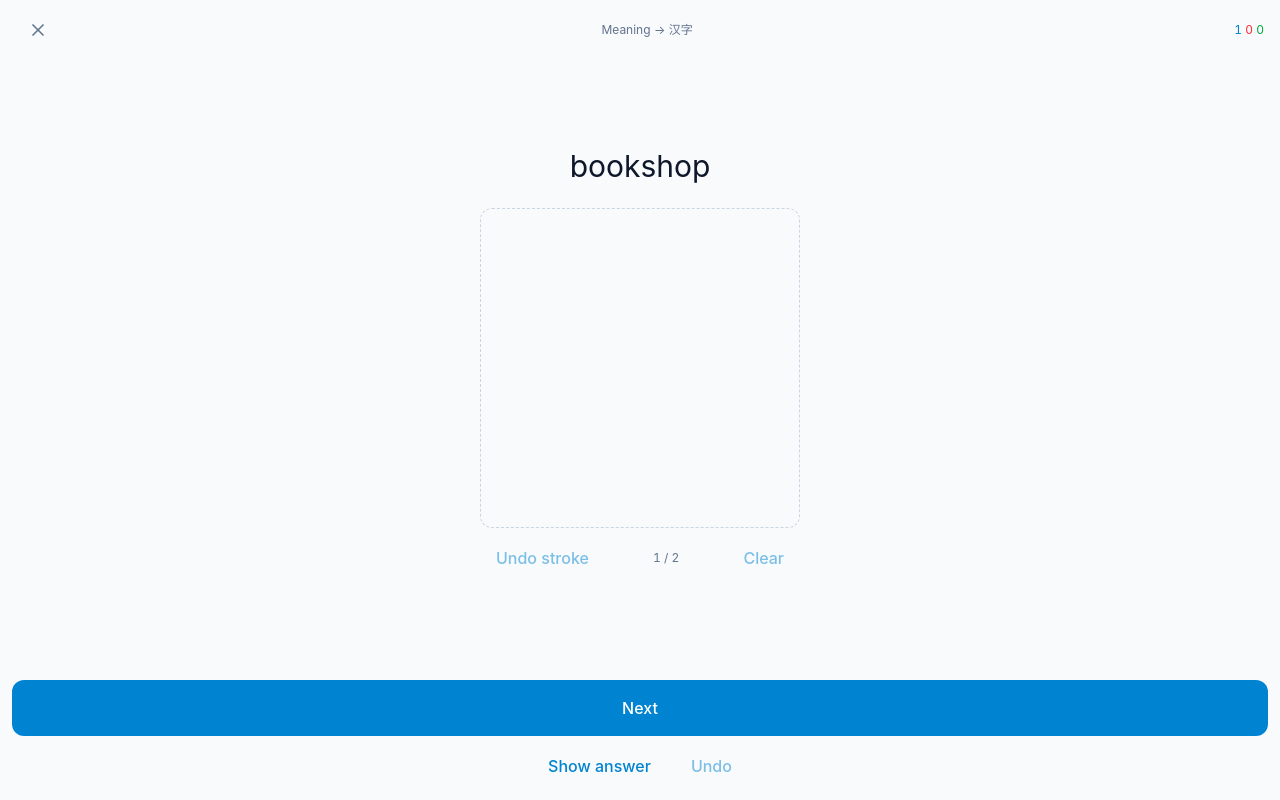
StudyPage › writing cards › lets the answer be revealed from the first character
The width and height of the screenshot is (1280, 800).
Step 1. Click the button "Show answer" → [600, 766], box [532,744,667,788]
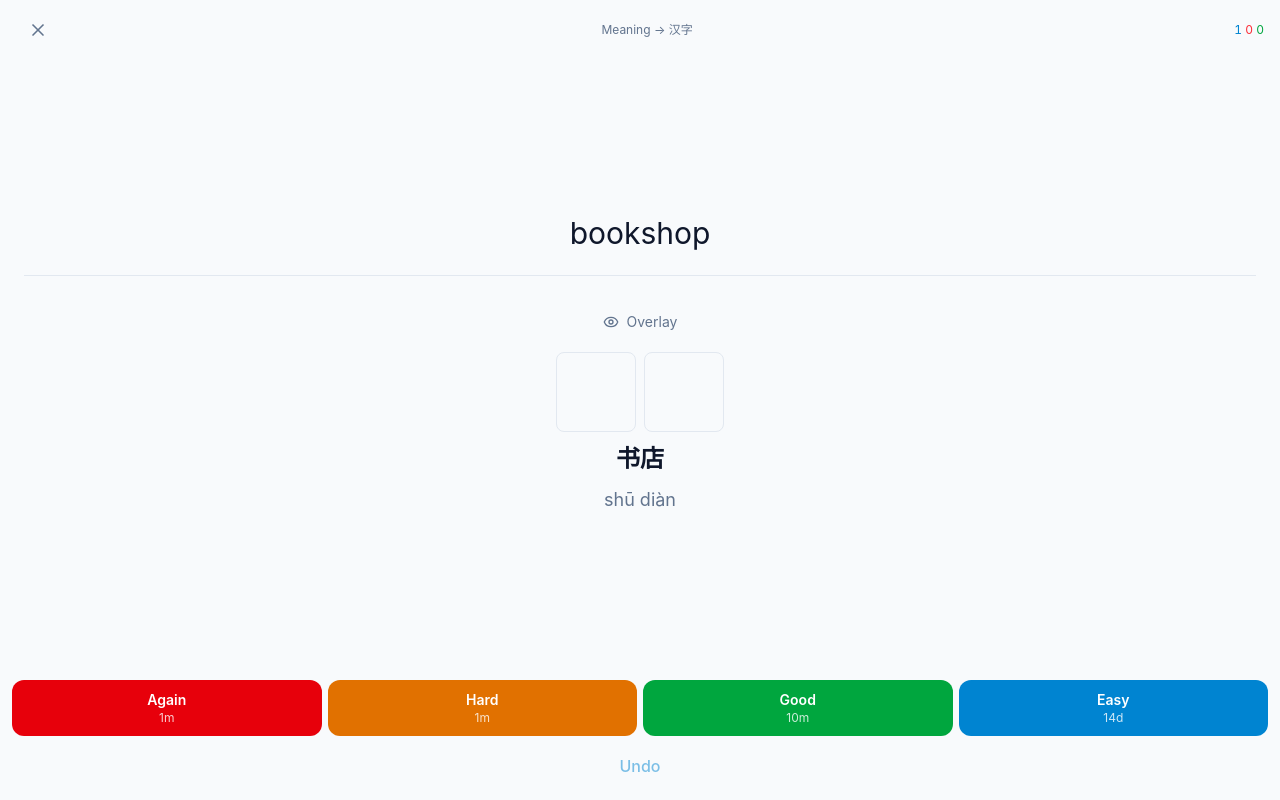
Now the element with test id "answer" shows "书店", box [24,274,1256,514]
Now the element with test id "writing-answer" is shown, box [556,300,724,432]
